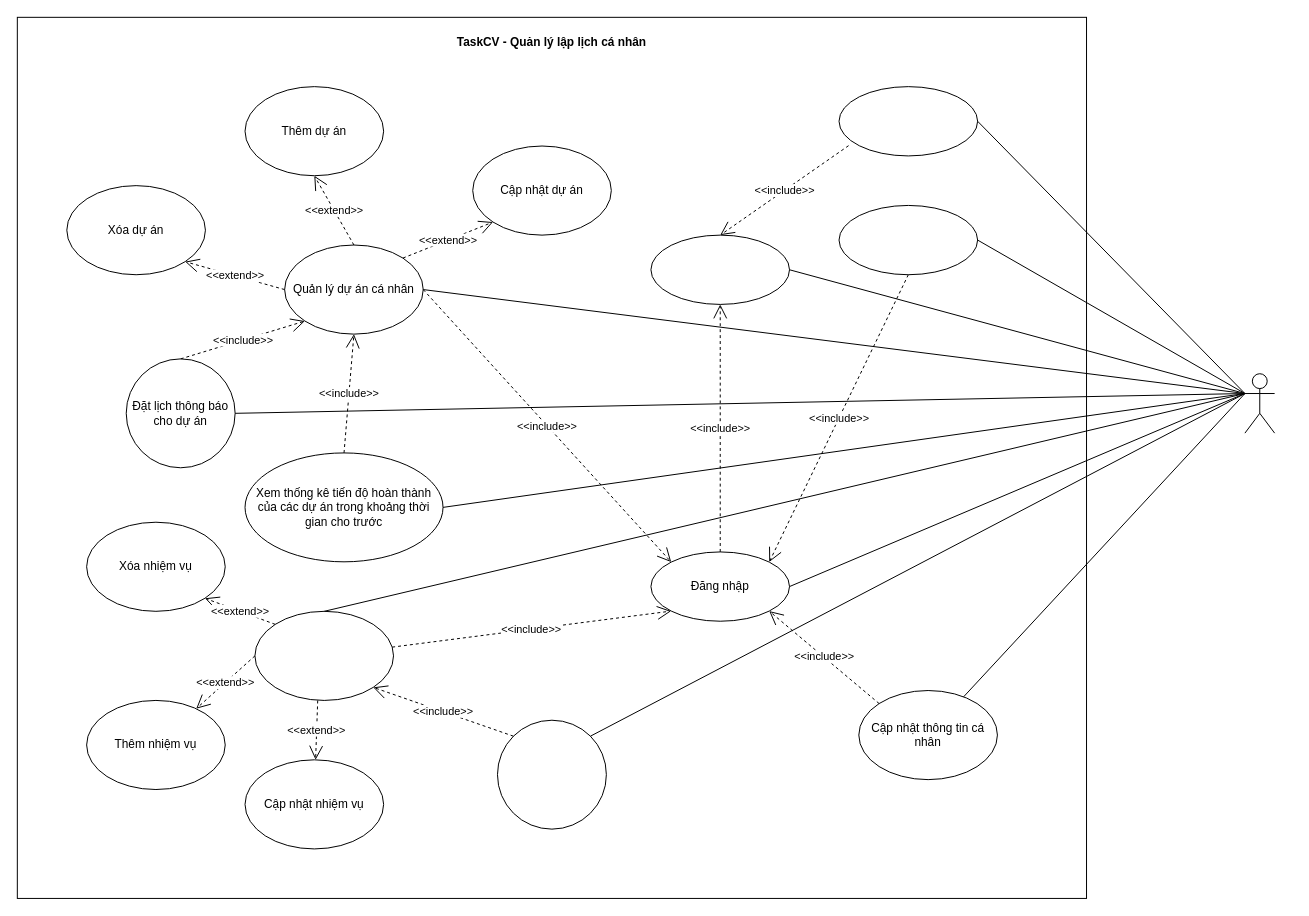
The diagram is 1309 pixels wide and 916 high, and some of its shapes have lost their labels. Here are the shapes that lost their labels. From the top down, the centre of each, then its label:
point 908,121: Xác thực tài khoản
point 908,239: Đăng xuất
point 720,269: Đăng ký
point 1259,403: Người dùng
point 324,655: Quản lý nhiệm vụ cá nhân
point 551,774: Đặt lịch thông báo cho nhiệm vụ
